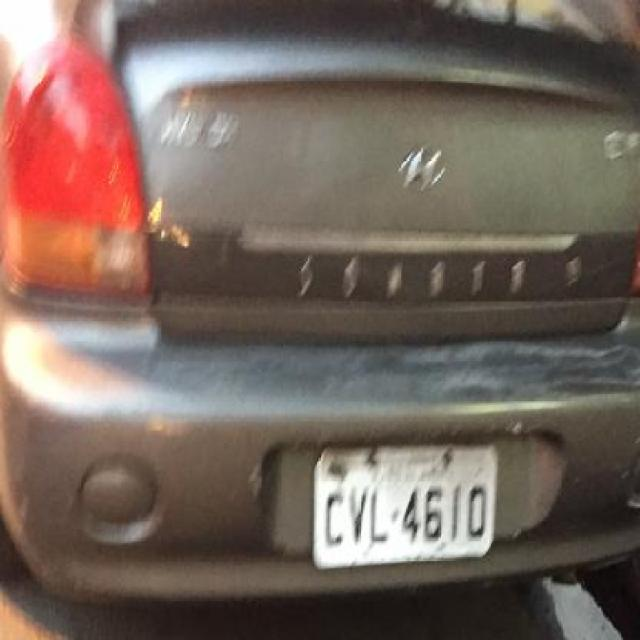old_plate: (305, 436, 508, 574)
